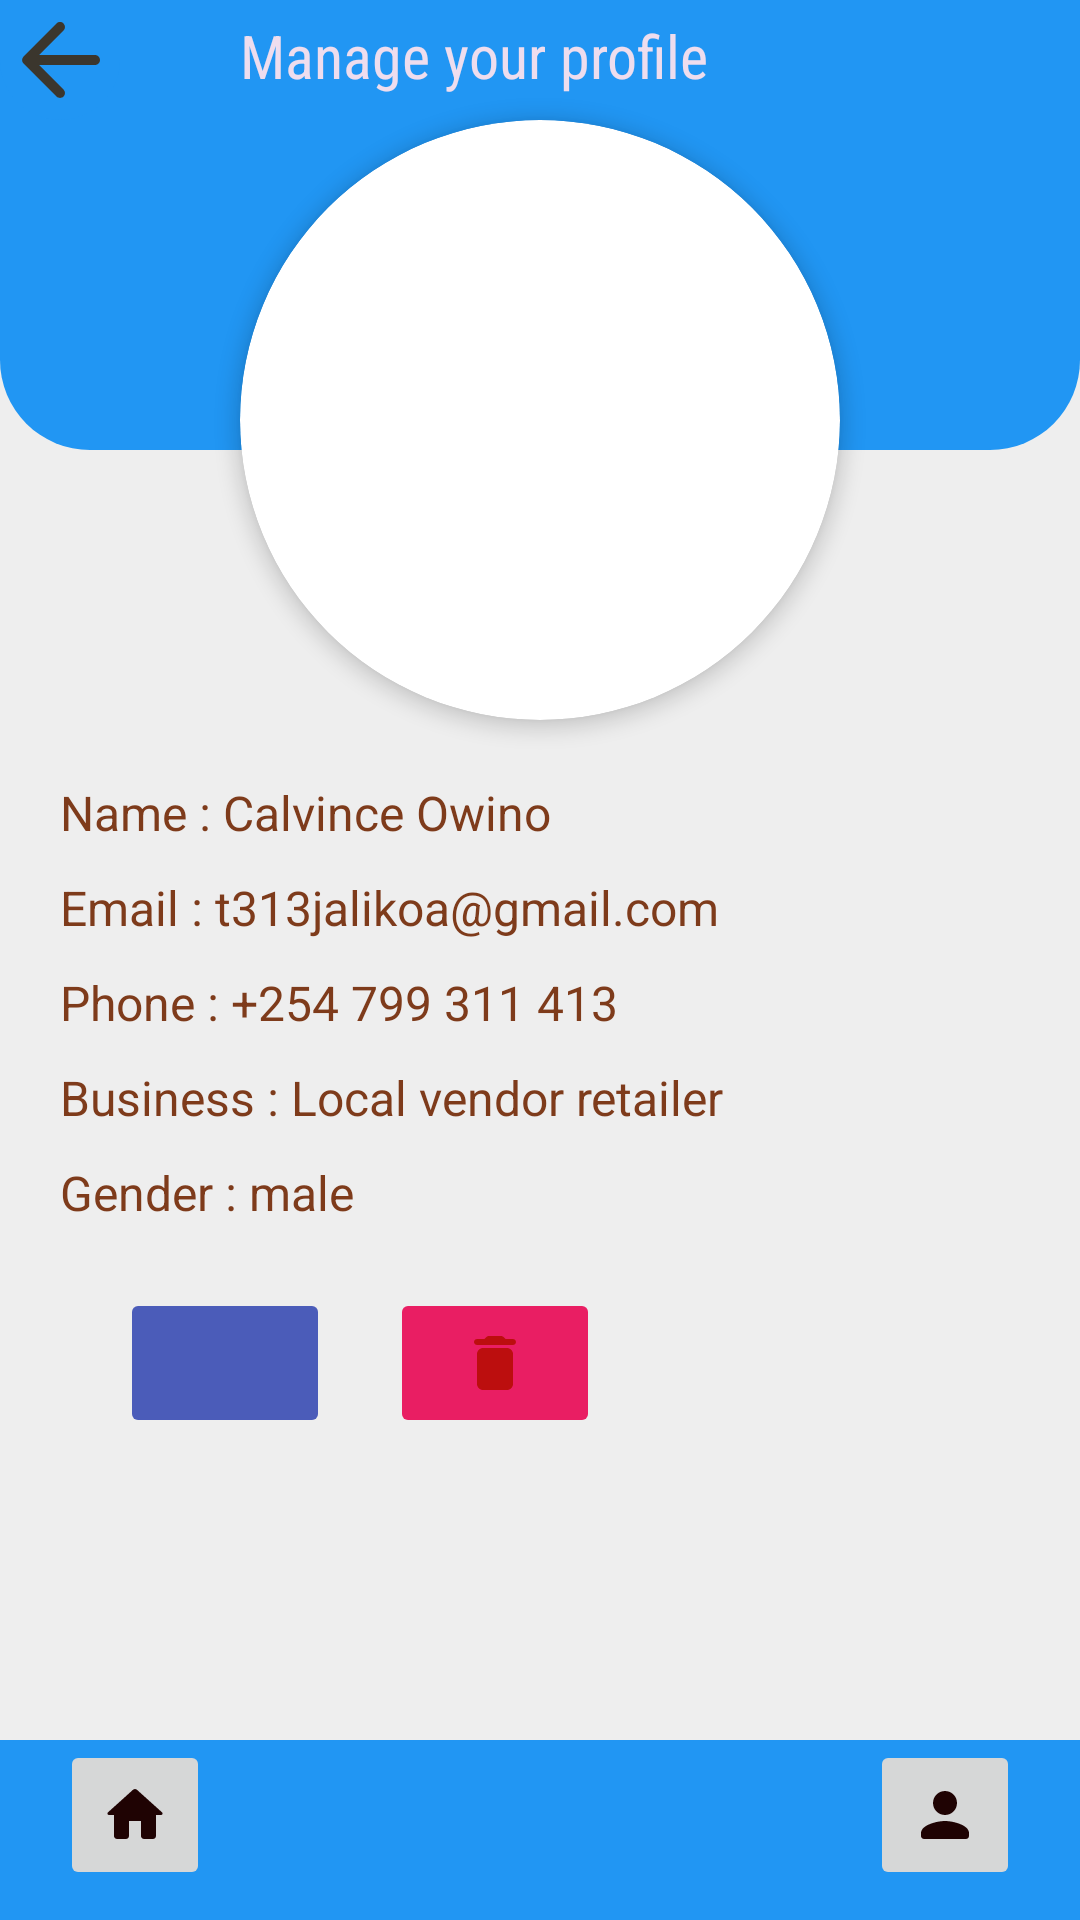

Icon bounding boxes for this 1080w x 1920h phone screenshot, format (x1, y1, x2, y2):
arrow back: (22, 22, 100, 98)
delete: (402, 1306, 588, 1420)
home: (72, 1758, 198, 1872)
person: (882, 1758, 1008, 1872)
